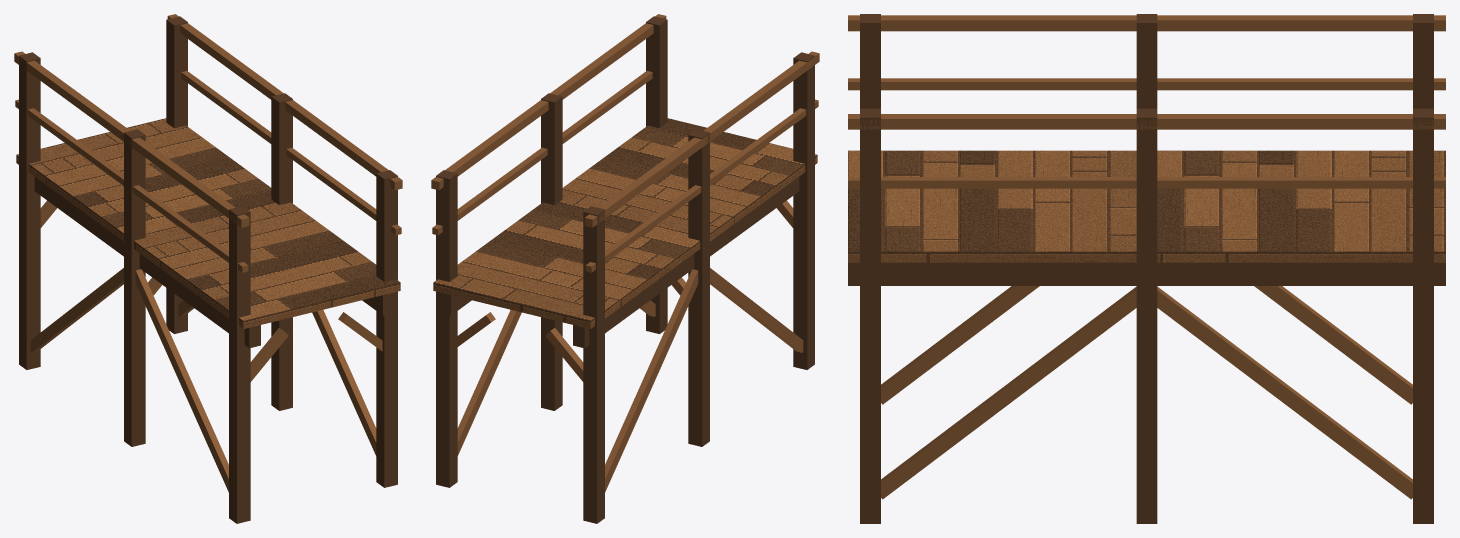
The model's file is mine_walkway.glb.
The picture shows the model from 3 angles, left to right: view 1: azimuth 30°, elevation 25°; view 2: azimuth 150°, elevation 25°; view 3: azimuth 270°, elevation 25°; orthographic projection. The views are drawn at different scales.
Visible parts, largest first — view 1: mine_walkway; view 2: mine_walkway; view 3: mine_walkway.
Part boxes in pixels (x1,y1,x2,y2): mine_walkway: [14, 14, 402, 523]; mine_walkway: [431, 14, 819, 523]; mine_walkway: [848, 14, 1445, 523].
Bounding box in the file's own units: 1.64 × 3 × 4.
3 materials, 1 textured.
